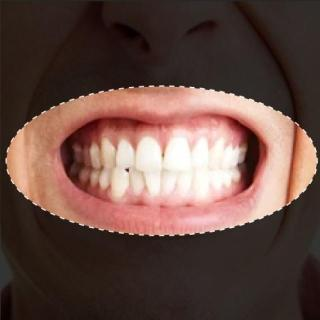maligned: (110, 166, 131, 204)
plaque: (145, 177, 175, 201)
